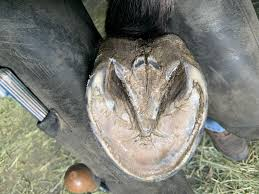horsesole: (85, 57, 209, 184)
